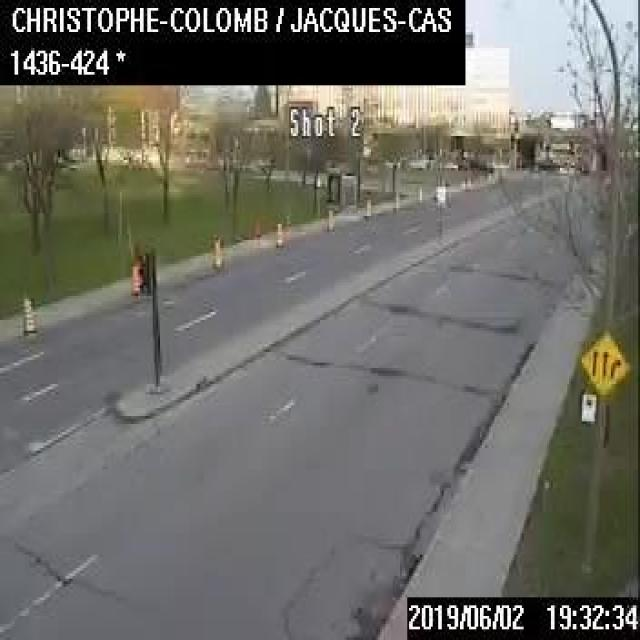construction: (22, 296, 35, 333), (130, 260, 140, 294), (212, 235, 220, 268), (274, 220, 283, 246), (326, 208, 333, 230), (364, 196, 370, 214), (416, 184, 422, 201)
